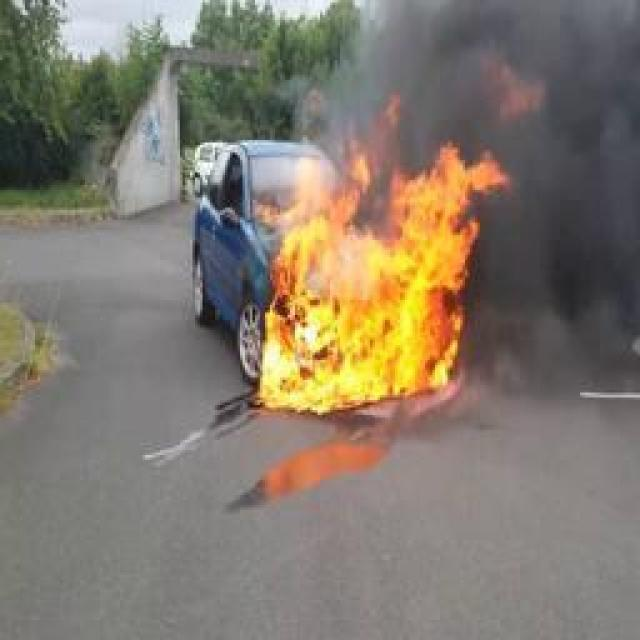Fire: (257, 95, 515, 415)
